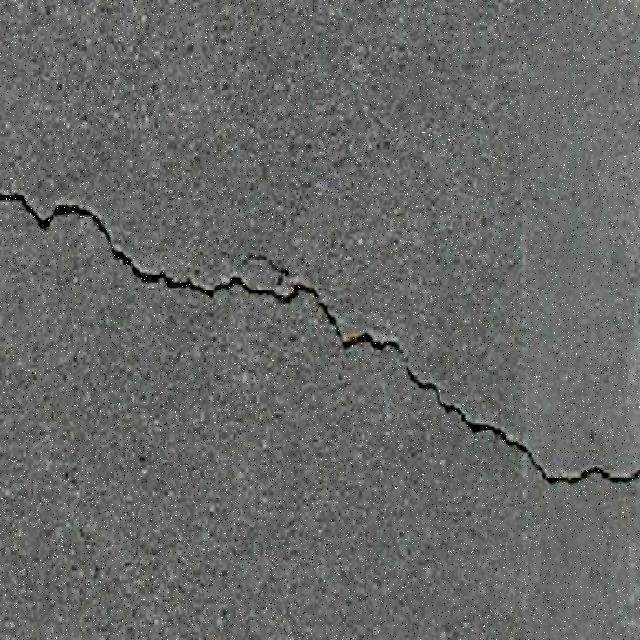minor crack: (4, 190, 636, 489), (6, 192, 118, 247), (0, 190, 36, 206)
moderate crack: (246, 261, 386, 356), (403, 361, 459, 416), (554, 460, 638, 484), (312, 297, 343, 332), (325, 368, 354, 391)
severe crack: (211, 389, 311, 441), (514, 446, 558, 479), (276, 277, 324, 301), (543, 473, 562, 484), (562, 474, 582, 484)
